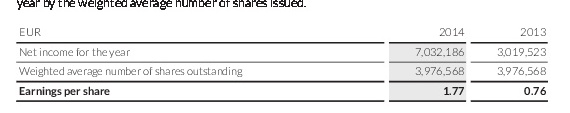table: (0, 0, 570, 113)
